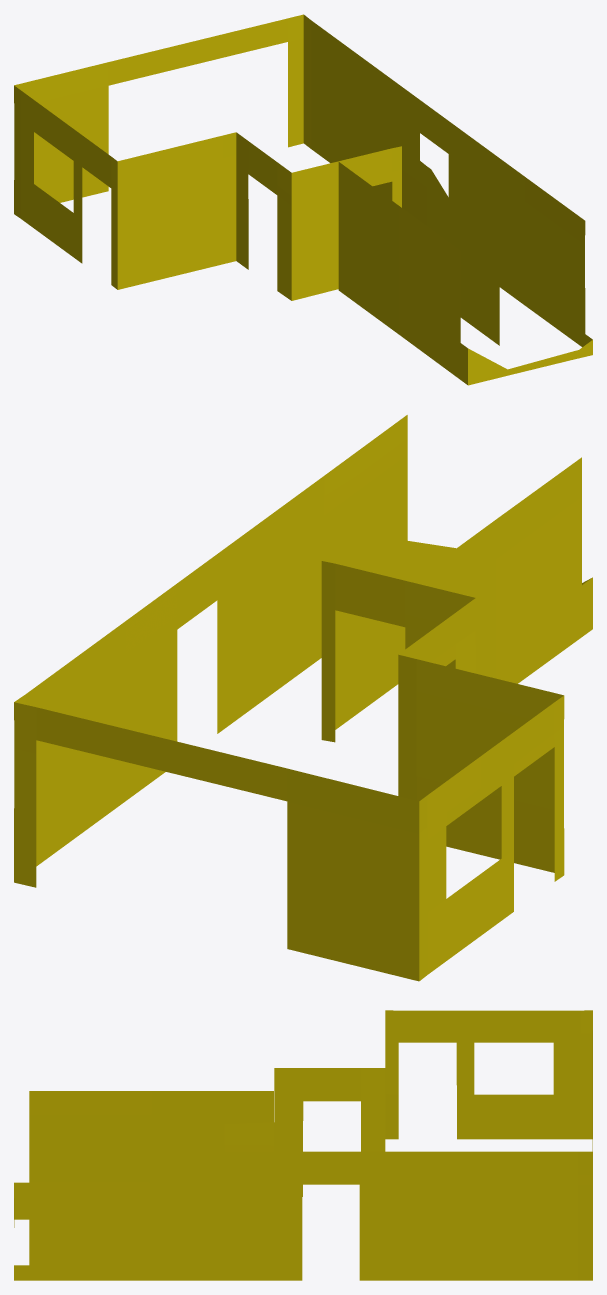
Rendered from BH04_WP_07_Break.fbx.
3 views of the same model, one above another, from view 1: azimuth 30°, elevation 25°; view 2: azimuth 150°, elevation 25°; view 3: azimuth 270°, elevation 25° (orthographic). The views are drawn at different scales.
Parts seen in each view (by area): view 1: BH04_WP_07_Break; view 2: BH04_WP_07_Break; view 3: BH04_WP_07_Break.
Part boxes in pixels (box(x1,y1,x2,y2)): BH04_WP_07_Break: box(14, 14, 592, 385); BH04_WP_07_Break: box(14, 415, 592, 981); BH04_WP_07_Break: box(14, 1010, 592, 1280).
Size of the model in its own units: 712 by 303 by 1230.
